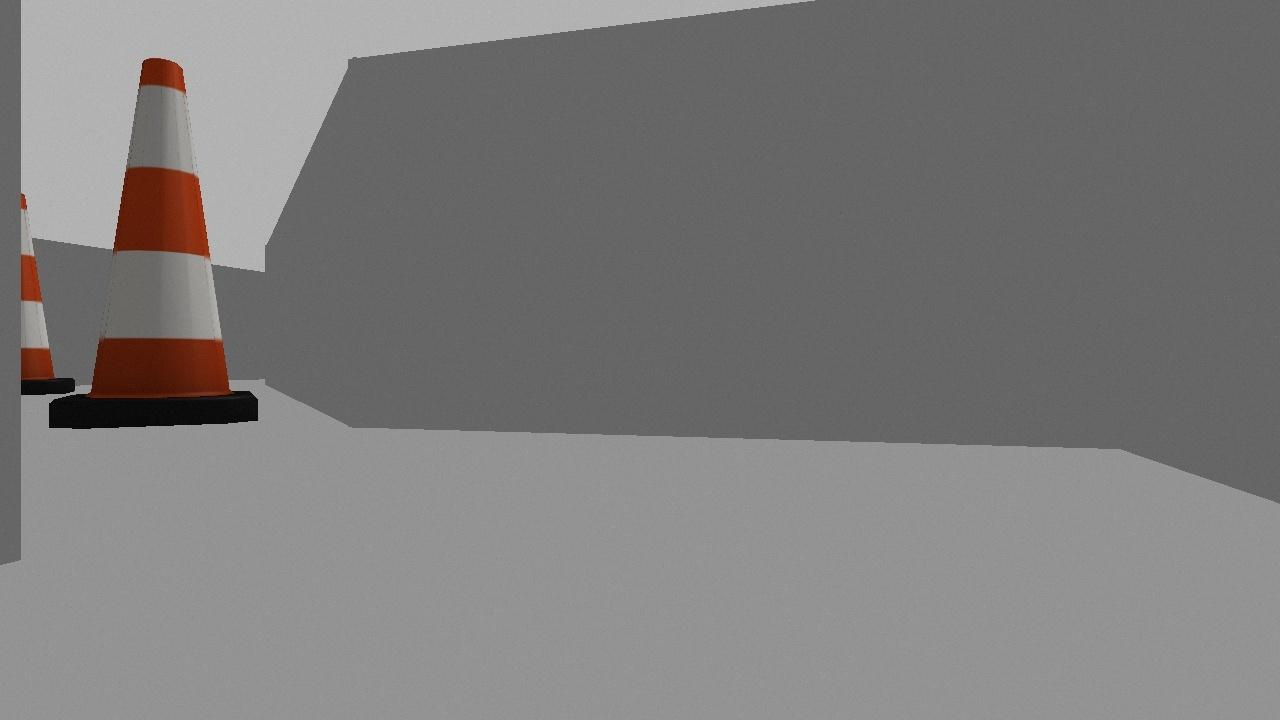cone_barrel: (47, 51, 257, 427), (20, 182, 75, 393)
